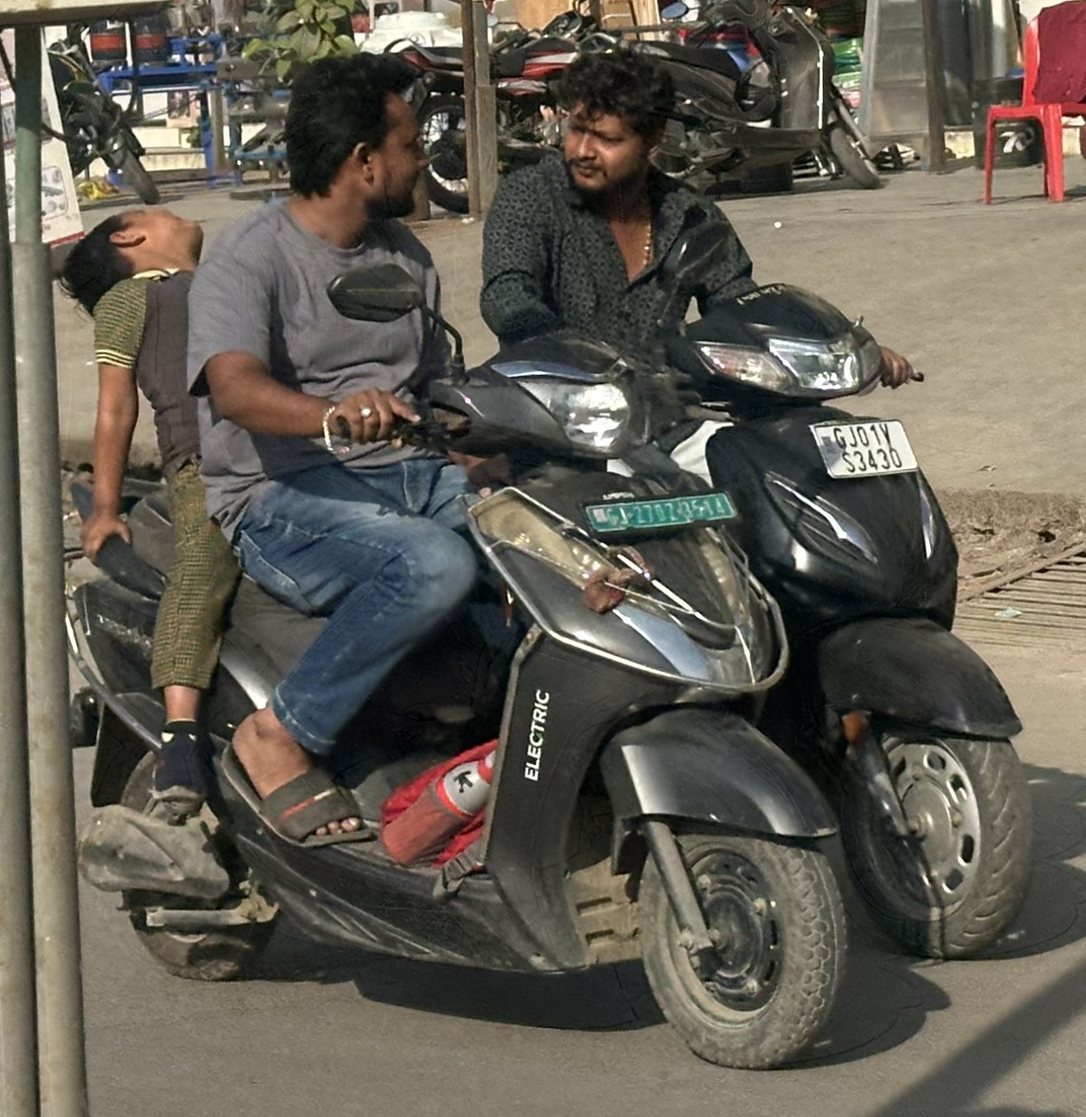BikeWithRider: (96, 12, 960, 1026)
NoHelmet: (275, 41, 445, 240), (542, 39, 685, 204), (65, 191, 196, 315)
